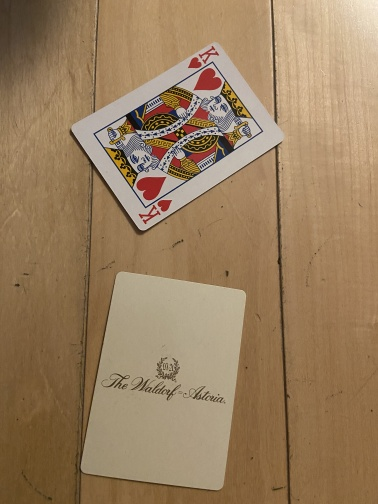king: (70, 41, 287, 234)
